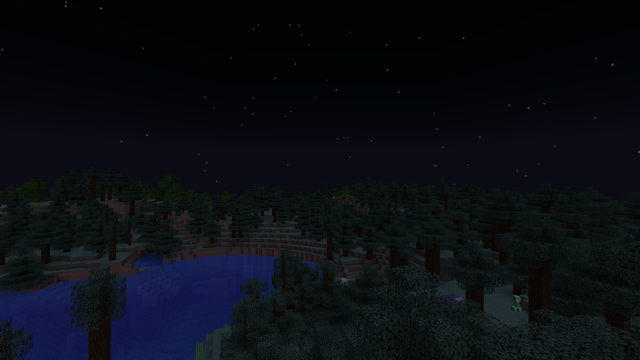creepers: (511, 293, 520, 311)
